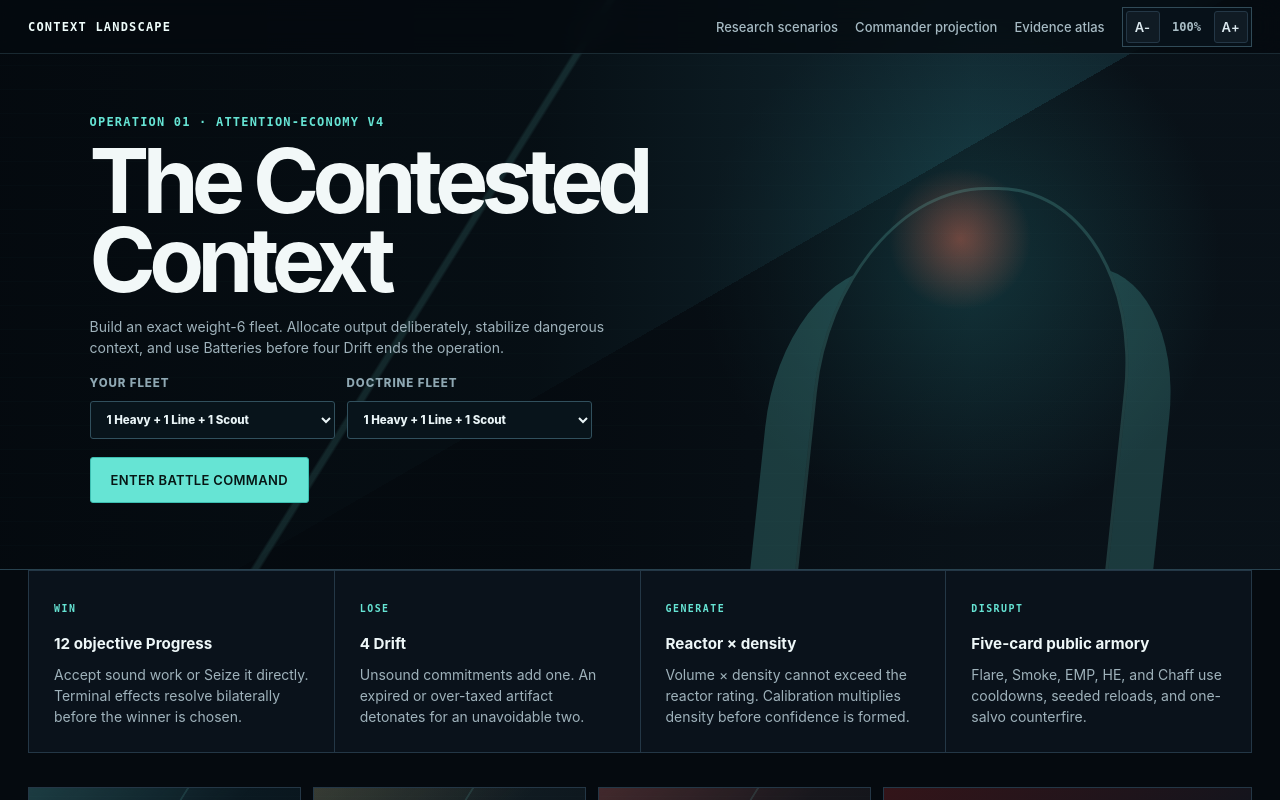
Battle Command v4 accessibility and interaction › supports a five-unit fleet lane and an expandable context inspector
Click the button "Enter battle command" at (199, 480), box [90,457,309,503]
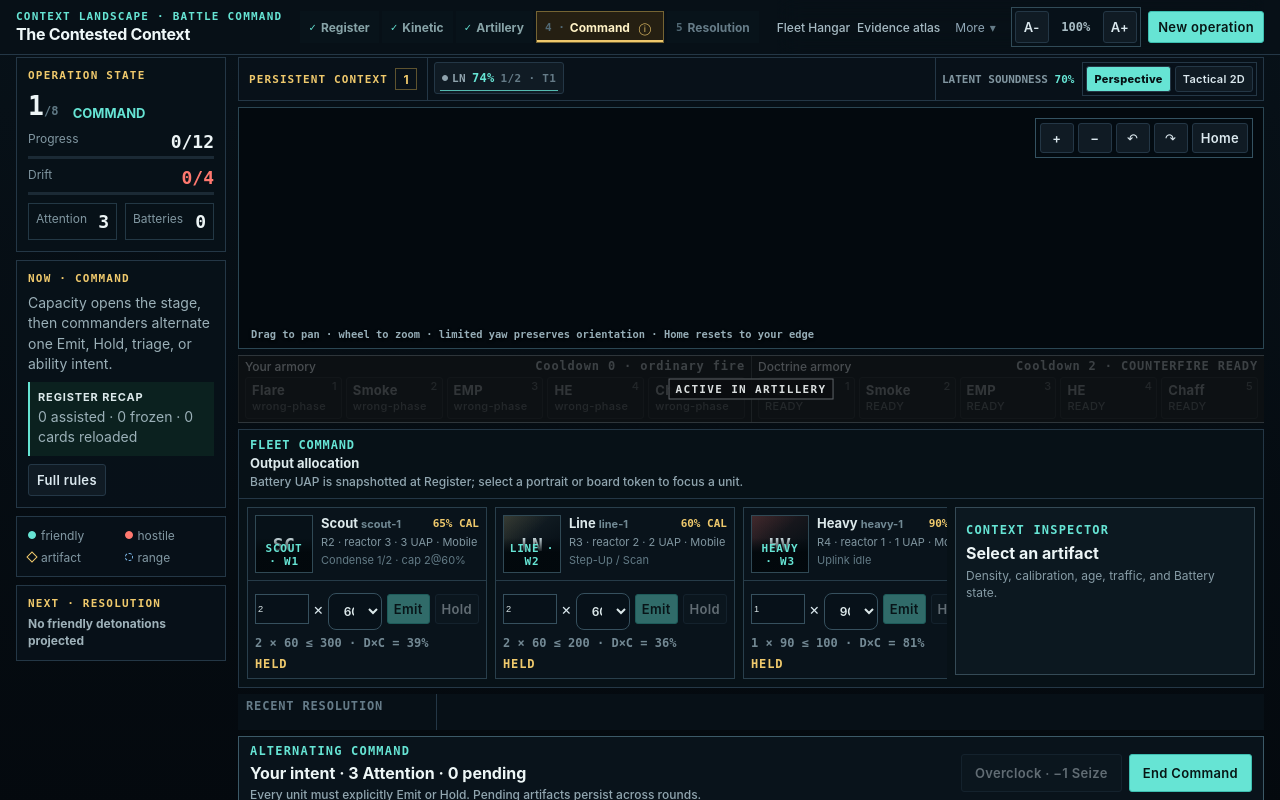
expect the number of buttons "SC SCOUT · W1" is 5: met
Click the button with aria-label "friendly artifact fixture:r1:alpha:line-1:0" at (499, 78), box [434,62,564,94]
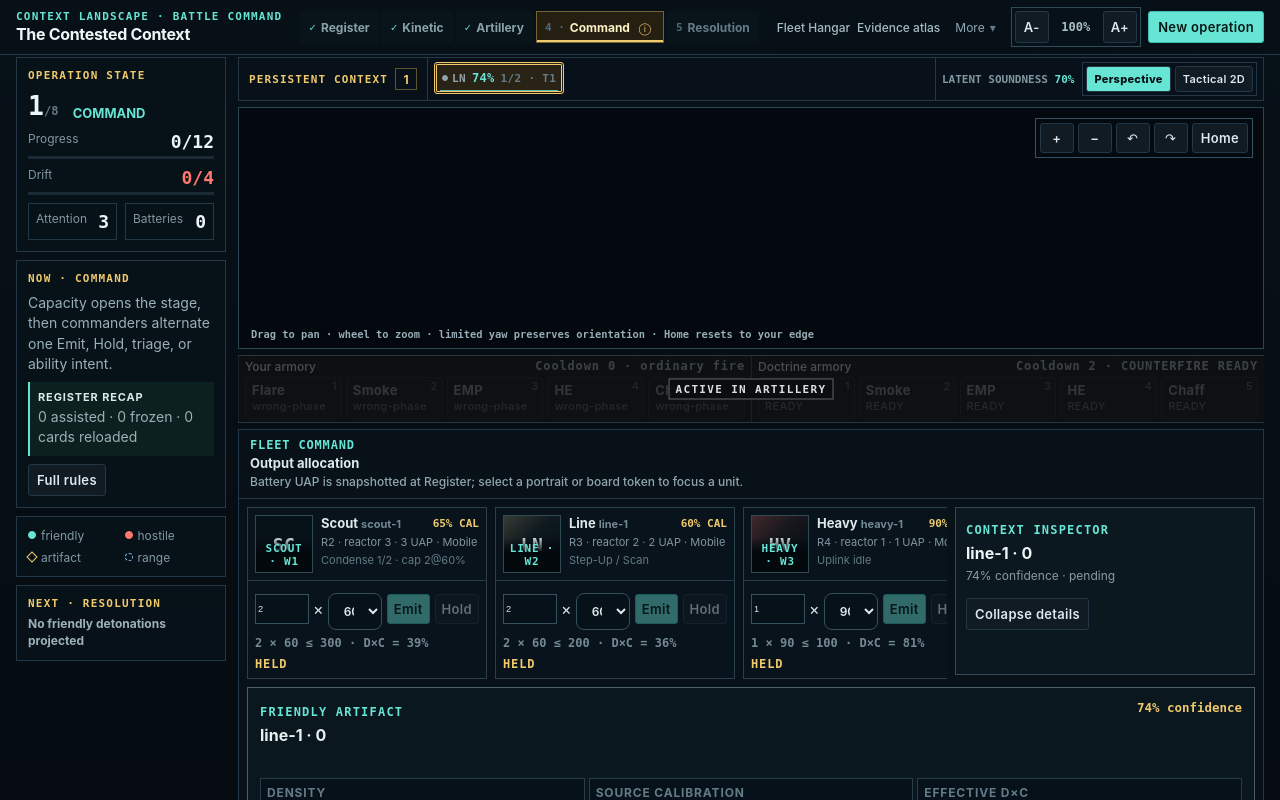
Click the button with aria-label "Collapse context inspector" at (1028, 614), box [966,598,1089,630]
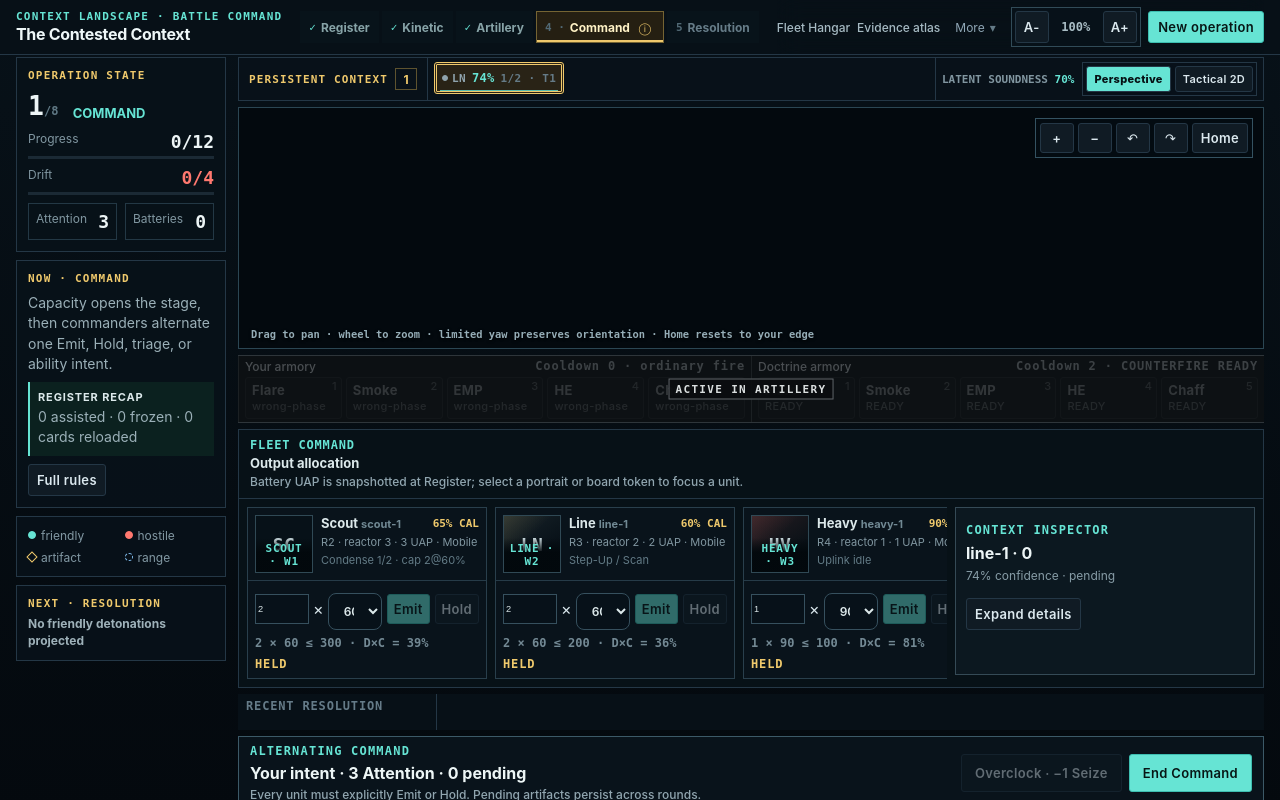
expect the button with aria-label "Expand context inspector" is collapsed: met
Click the button with aria-label "Expand context inspector" at (1023, 614), box [966,598,1081,630]
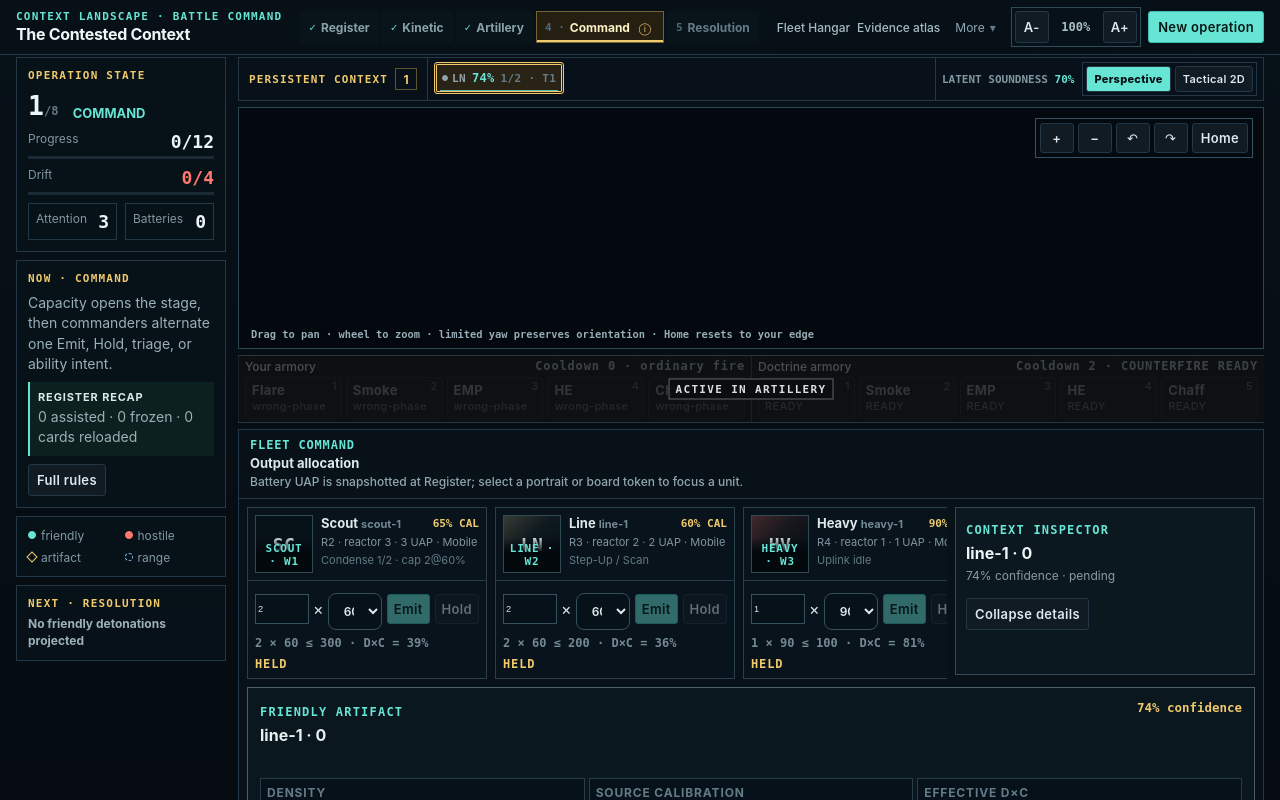
expect the text "Source calibration" is shown: met, box [596,785,745,799]
expect the text "Effective D×C" is shown: met, box [924,785,1029,799]
